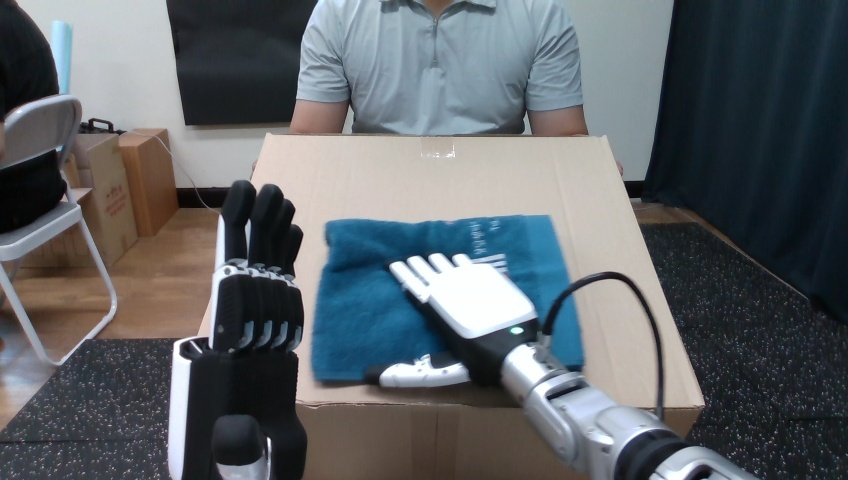left robot hand: (379, 253, 755, 479), (168, 181, 306, 478), (549, 278, 658, 415)
